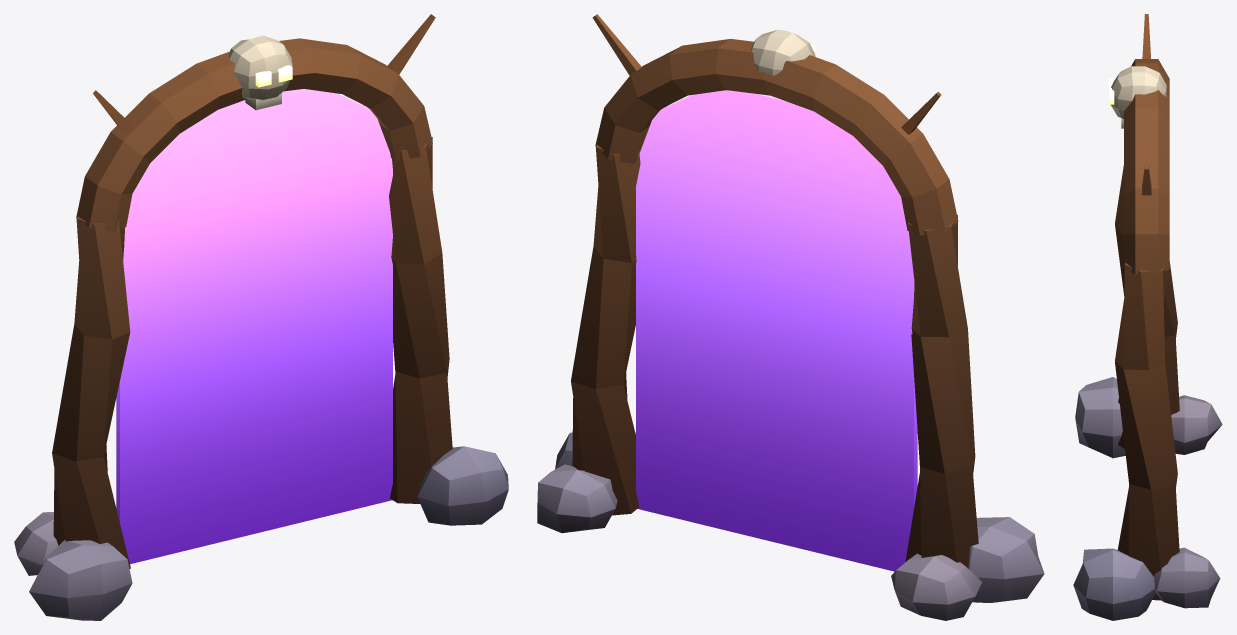
The model's file is PlayGround_Kit_Monster_Gate.fbx.
3 renders of one model, left to right at view 1: azimuth 30°, elevation 25°; view 2: azimuth 150°, elevation 25°; view 3: azimuth 270°, elevation 25°, orthographic. The views are drawn at different scales.
Parts seen in each view (by area): view 1: PlayGround_Kit_Monster_Gate; view 2: PlayGround_Kit_Monster_Gate; view 3: PlayGround_Kit_Monster_Gate.
Part boxes in pixels (box(x1,y1,x2,y2)): PlayGround_Kit_Monster_Gate: box(14, 14, 508, 620); PlayGround_Kit_Monster_Gate: box(537, 14, 1044, 620); PlayGround_Kit_Monster_Gate: box(1073, 14, 1222, 620).
Size of the model in its own units: 3.68 by 3.85 by 1.11.
